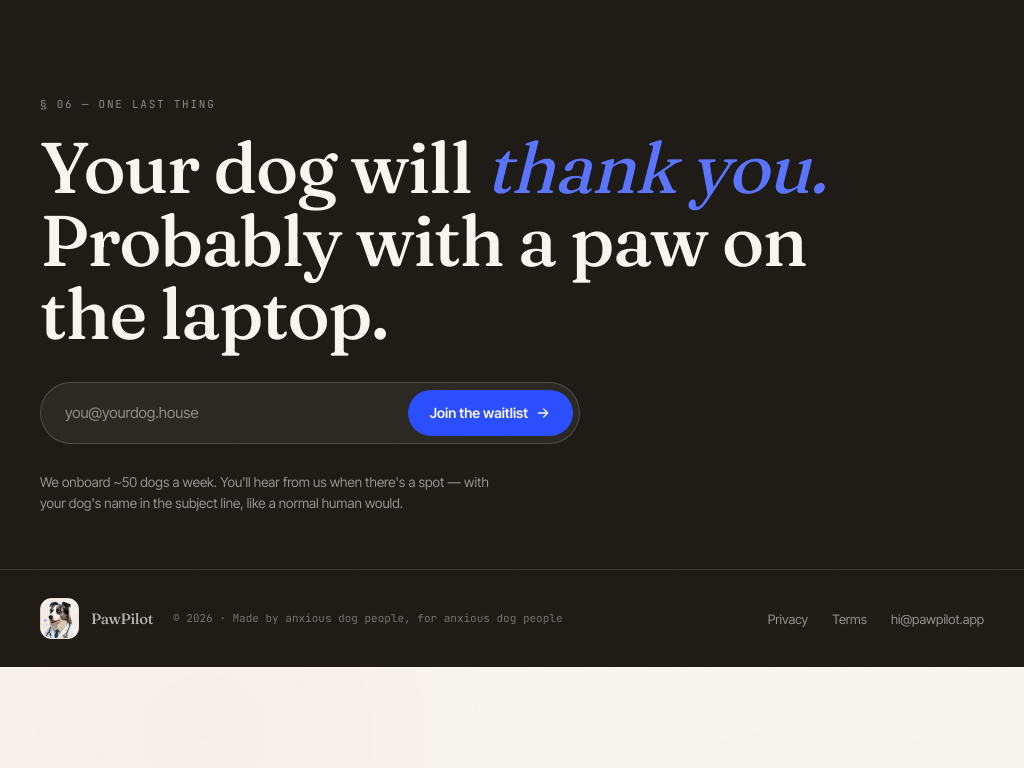
Test: FooterCTA waitlist form › transitions to done on a valid email
The width and height of the screenshot is (1024, 768).
Type "owner@yourdog.house" into the field labelled "Email" at (227, 413), box [47, 389, 408, 437]
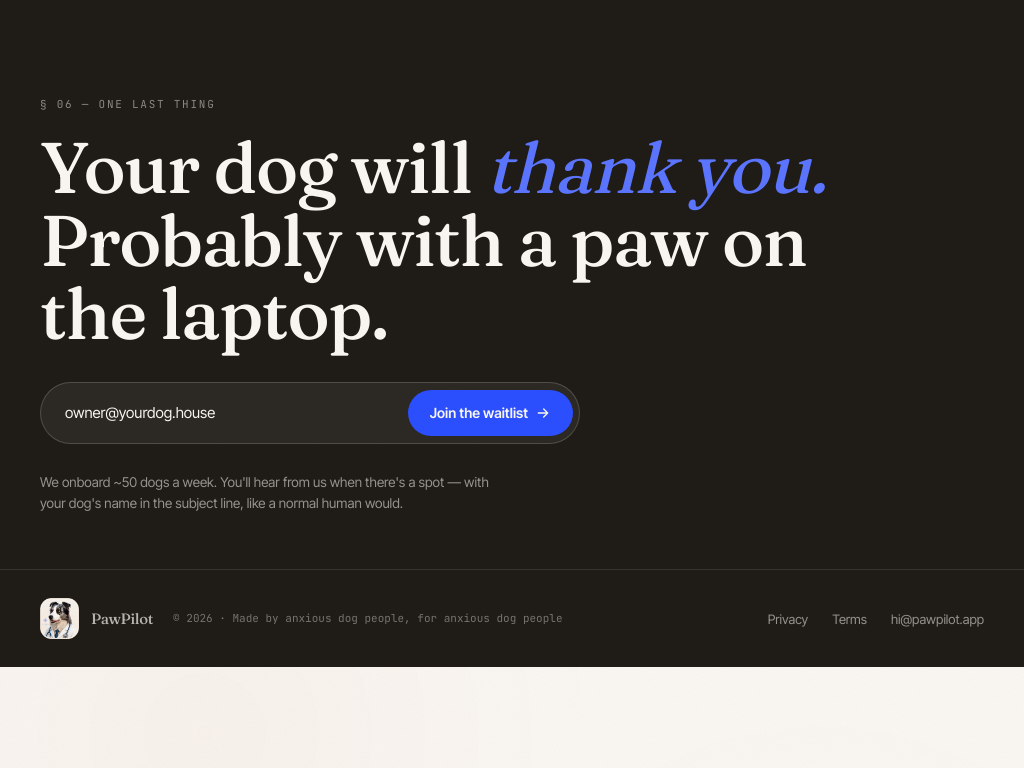
Submit the form, box [40, 382, 580, 444]
Wait 700 ms
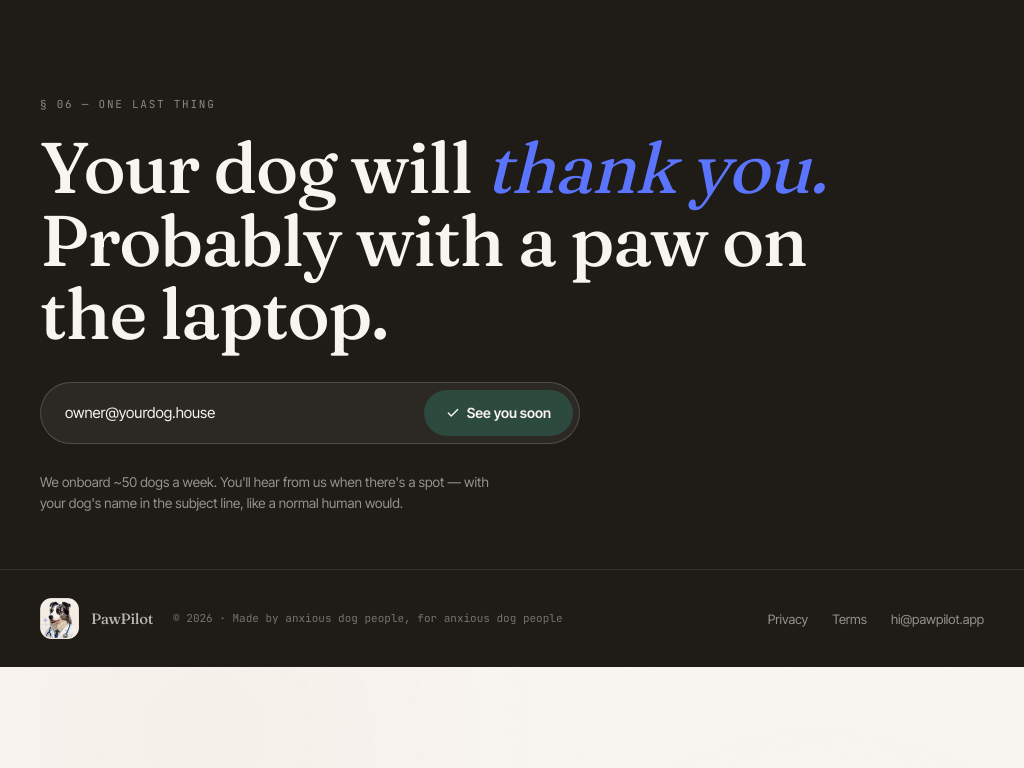
Expected: the button "See you soon" is shown, [424, 390, 573, 436]
